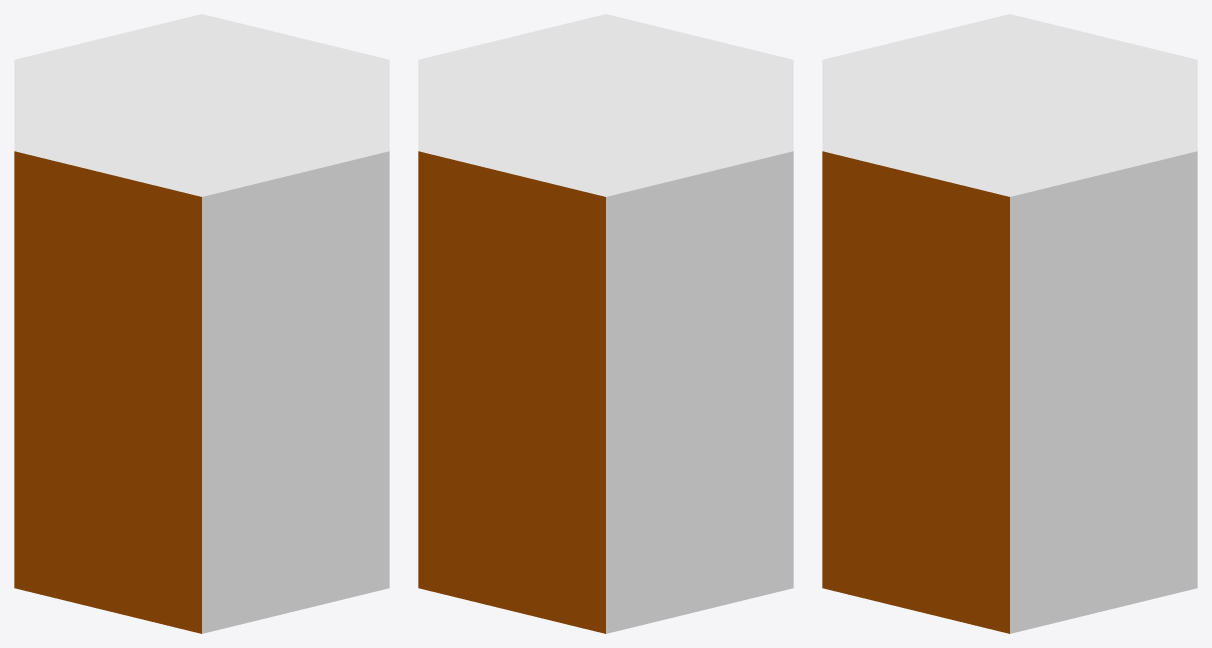
Rendered from BarrierB.fbx.
3 views of the same model, side by side, from view 1: azimuth 30°, elevation 25°; view 2: azimuth 150°, elevation 25°; view 3: azimuth 270°, elevation 25° (orthographic).
Visible parts, largest first — view 1: BarrierB; view 2: BarrierB; view 3: BarrierB.
Boxes of the visible parts, box(x1,y1,x2,y2) form: BarrierB: box(14, 14, 389, 633); BarrierB: box(418, 14, 793, 633); BarrierB: box(822, 14, 1197, 633).
Bounding box in the file's own units: 57.87 × 64.44 × 50.12.
Materials: 1 (1 with a texture image).
